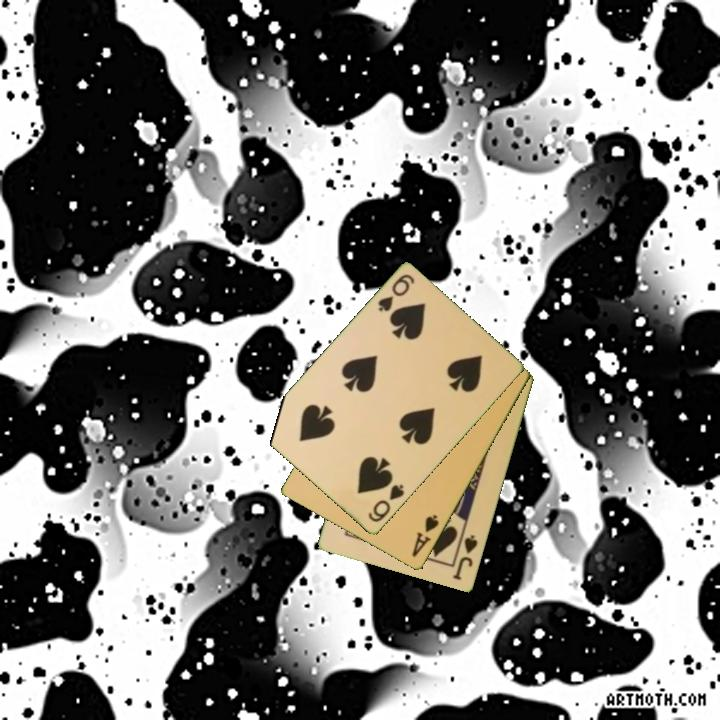6s: (374, 271, 417, 315), (365, 481, 407, 526)
As: (408, 511, 442, 560)
Js: (449, 532, 481, 583)
